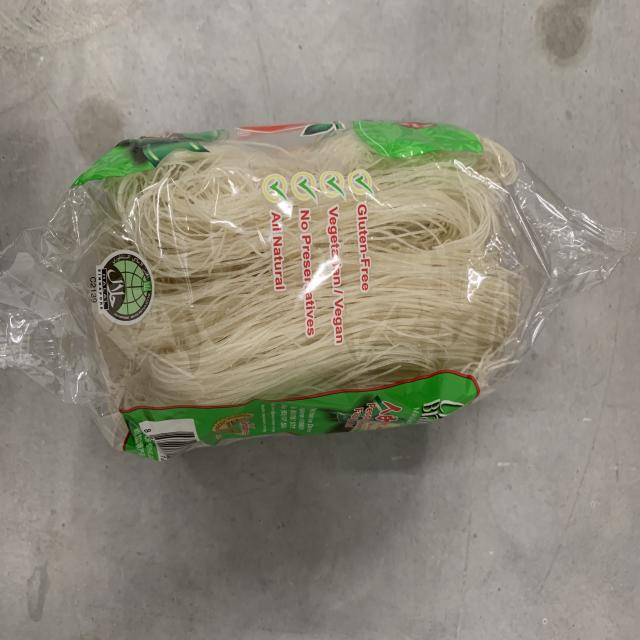object_name: (58, 157, 510, 417)
